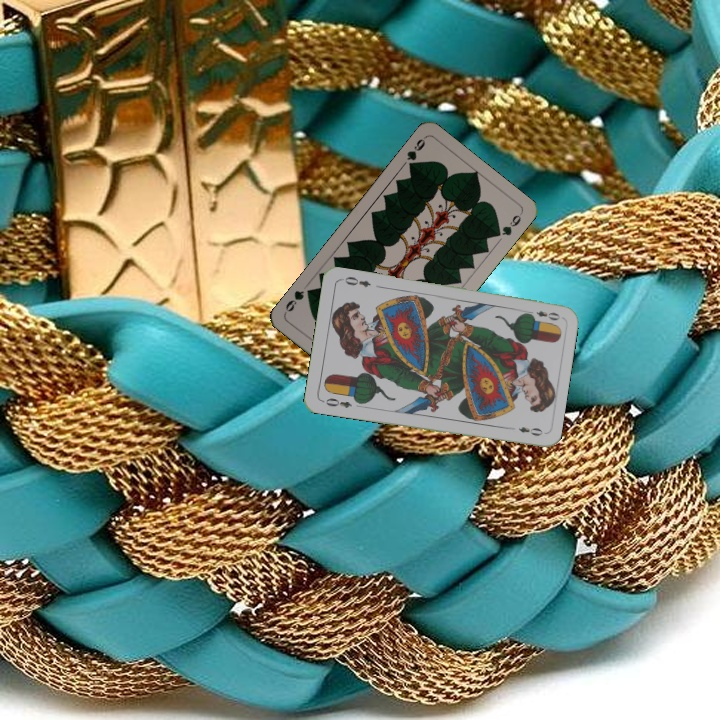EO: (523, 306, 563, 323), (318, 394, 354, 411)
G9: (402, 133, 428, 172)
